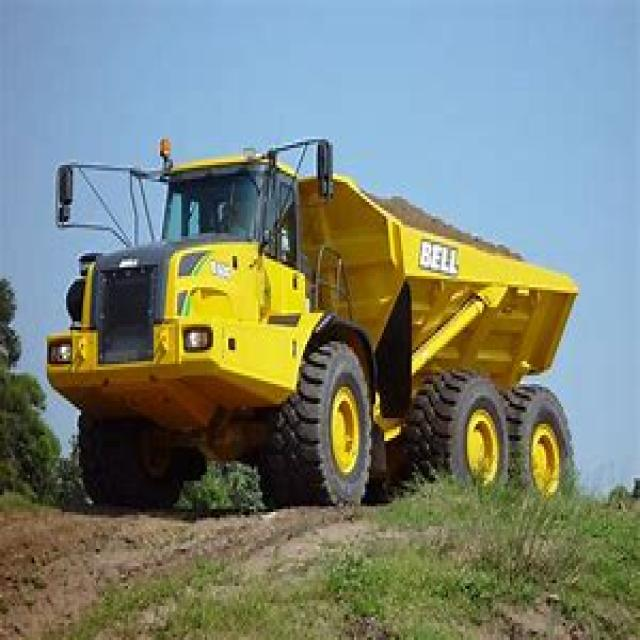dump_truck: (32, 119, 606, 526)
